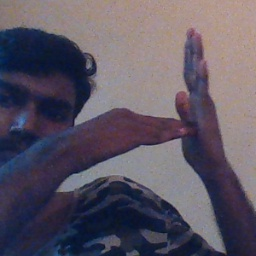Z: (123, 26, 225, 169)
